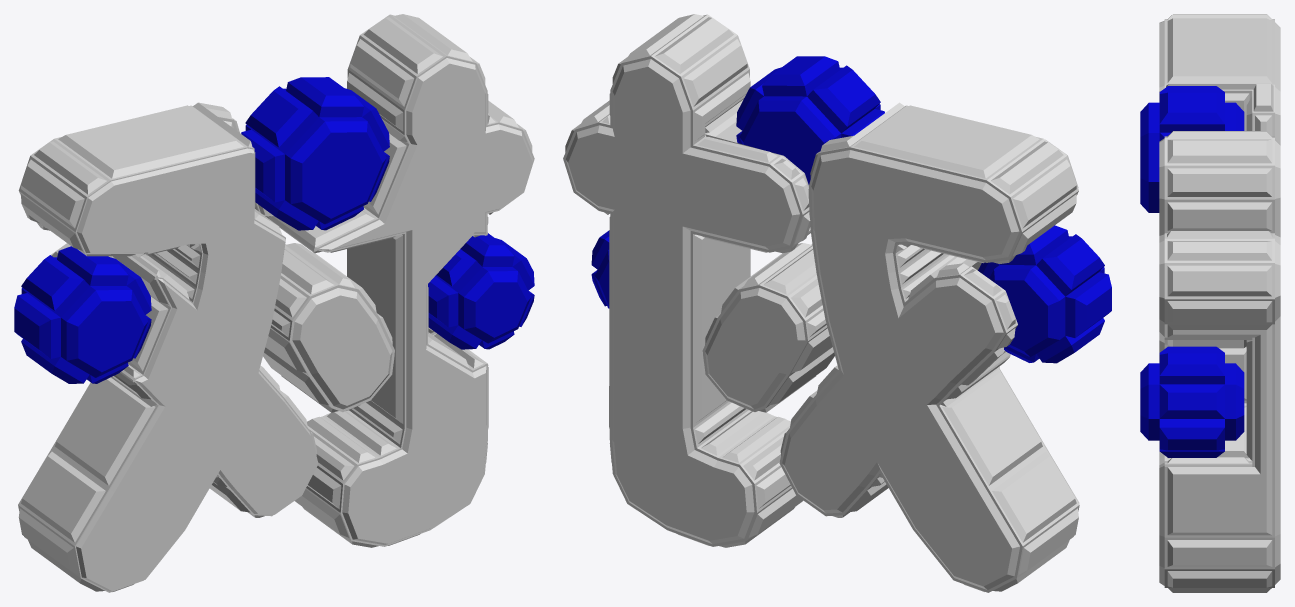
Rendered from Ch_China_对_01.fbx.
3 renders of one model, left to right at view 1: azimuth 30°, elevation 25°; view 2: azimuth 150°, elevation 25°; view 3: azimuth 270°, elevation 25°, orthographic. The views are drawn at different scales.
Parts seen in each view (by area): view 1: sphere1; view 2: sphere1; view 3: sphere1.
Part boxes in pixels (x1=…): sphere1: x1=14, y1=14, x2=534, y2=592; sphere1: x1=563, y1=14, x2=1111, y2=592; sphere1: x1=1140, y1=14, x2=1280, y2=592.
Bounding box in the file's own units: 1.01 × 0.9334 × 0.2541.
